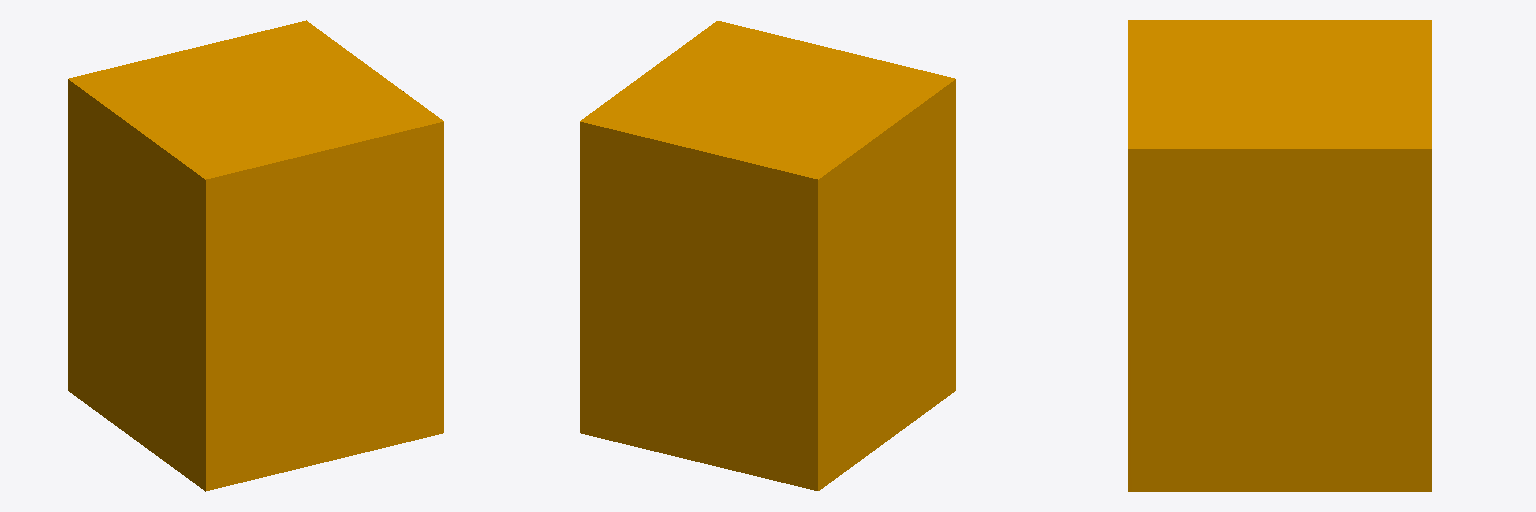
robot.urdf — pedestal:
<?xml version="1.0" encoding="UTF-8"?>
<robot name="pedestal">
	<link name="base">
		<collision>
			<geometry>
				<mesh filename="../vhacd/pedestal_vhacd.obj" scale="1.0 1.0 1.0"/>
			</geometry>
			<origin xyz="0 0 0"/>
			<contact_coefficients mu="0.24" />
		</collision>
		<visual>
			<geometry>
				<mesh filename="../vhacd/pedestal_vhacd.obj" scale="1.0 1.0 1.0"/>
			</geometry>
			<origin xyz="0 0 0"/>
		</visual>
		<inertial>
			<mass value="0"/>
			<inertia ixx="0.0" ixy="-0.0" ixz="-0.0" iyy="0.0" iyz="-0.0" izz="0.0" />
			<origin xyz="0.20000000298023224 0.20000000298023224 0.25"/>
		</inertial>
	</link>
</robot>

--- Render facts (derived) ---
The picture shows the robot from 3 angles, left to right: view 1: azimuth 30°, elevation 25°; view 2: azimuth 150°, elevation 25°; view 3: azimuth 270°, elevation 25°; orthographic projection.
Model pedestal with 1 links and 0 joints (none), rooted at base, posed all joints at 0.
Visible links, largest first — view 1: base; view 2: base; view 3: base.
Boxes of the visible links, x1,y1,x2,y2 form: base: [68, 20, 443, 491]; base: [580, 21, 955, 490]; base: [1128, 20, 1431, 491].
Bounding box of the posed robot: 0.4026 × 0.4026 × 0.5021 m (x, y, z).
1 mesh visuals loaded from 1 distinct referenced files (1 OBJ).